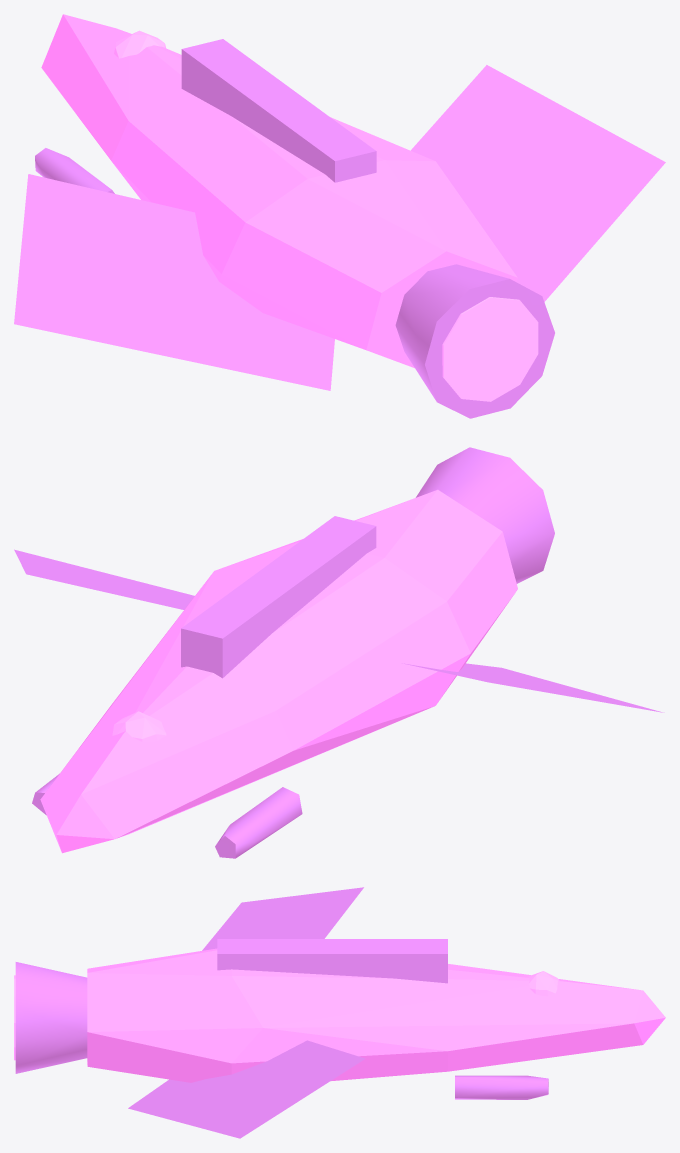
File: fighter_drone_lod1.glb
The picture shows the model from 3 angles, top to bottom: view 1: azimuth 30°, elevation 25°; view 2: azimuth 150°, elevation 25°; view 3: azimuth 270°, elevation 25°; orthographic projection. The views are drawn at different scales.
Visible parts, largest first — view 1: Merged_DroneDark, Merged_DroneBody, Merged_DroneEngine; view 2: Merged_DroneBody, Merged_DroneDark, Merged_DroneEngine; view 3: Merged_DroneBody, Merged_DroneDark, Merged_DroneEngine.
Part boxes in pixels (bbox=[...]): Merged_DroneDark: bbox=[14, 39, 665, 418]; Merged_DroneBody: bbox=[41, 14, 517, 368]; Merged_DroneEngine: bbox=[114, 30, 538, 401]; Merged_DroneBody: bbox=[40, 489, 517, 853]; Merged_DroneDark: bbox=[14, 447, 664, 858]; Merged_DroneEngine: bbox=[112, 711, 166, 741]; Merged_DroneBody: bbox=[87, 948, 665, 1082]; Merged_DroneDark: bbox=[15, 887, 548, 1138]; Merged_DroneEngine: bbox=[14, 971, 559, 1060].
Size of the model in its own units: 3.92 by 0.9986 by 4.52.
